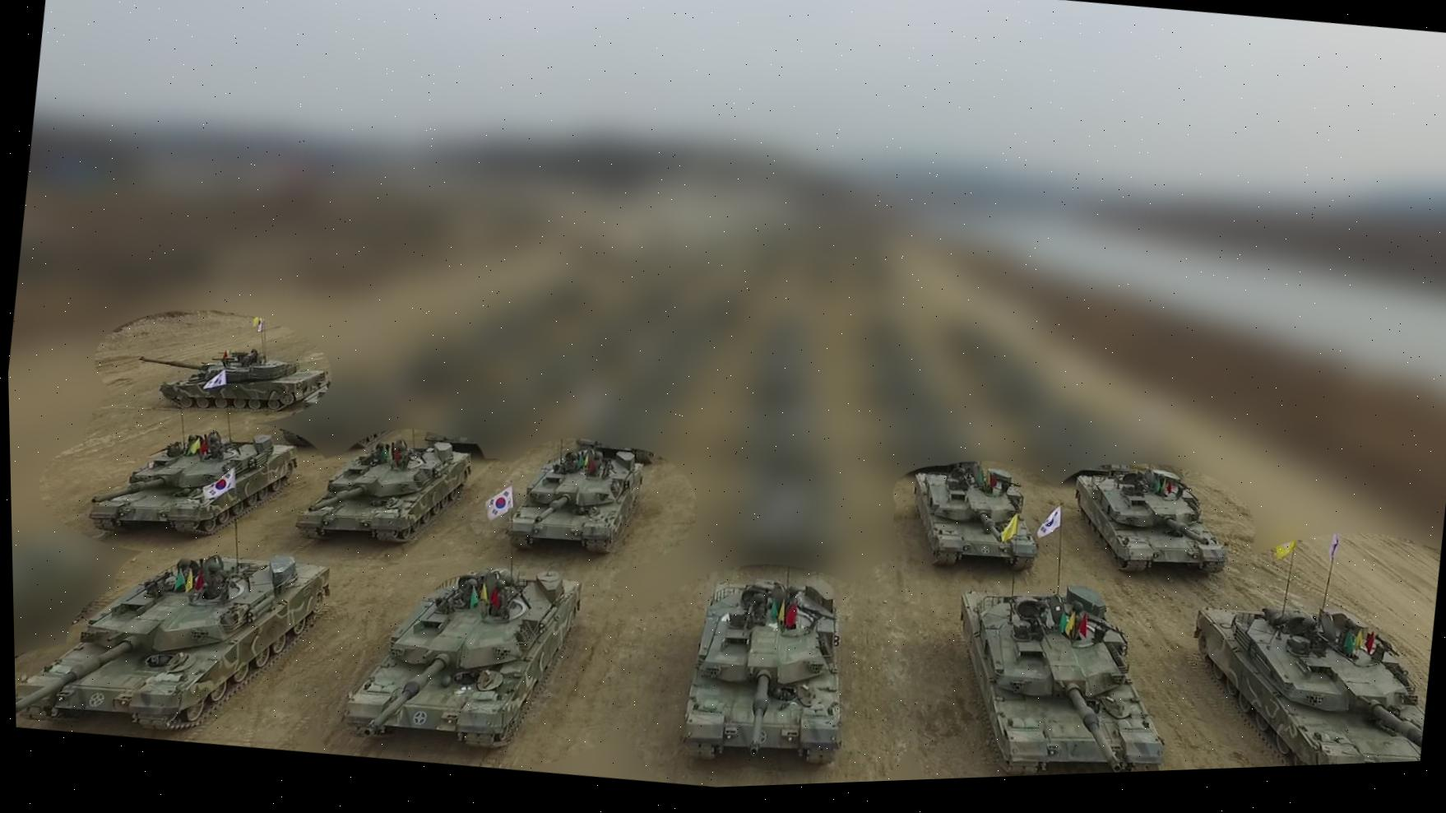tank: (12, 519, 338, 755), (334, 545, 589, 764), (936, 566, 1184, 779), (1175, 591, 1436, 770), (671, 554, 863, 775), (83, 411, 306, 554), (289, 413, 486, 559), (141, 302, 338, 429), (885, 447, 1064, 581), (1059, 452, 1239, 585), (500, 427, 660, 565)
